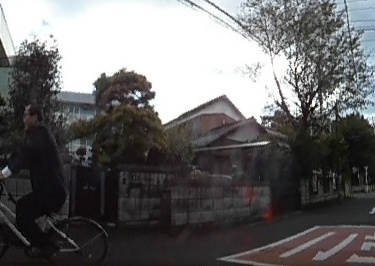person: (7, 98, 62, 262)
